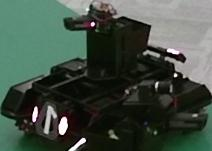armor_1: (32, 106, 69, 137)
front_1: (36, 102, 60, 140)
